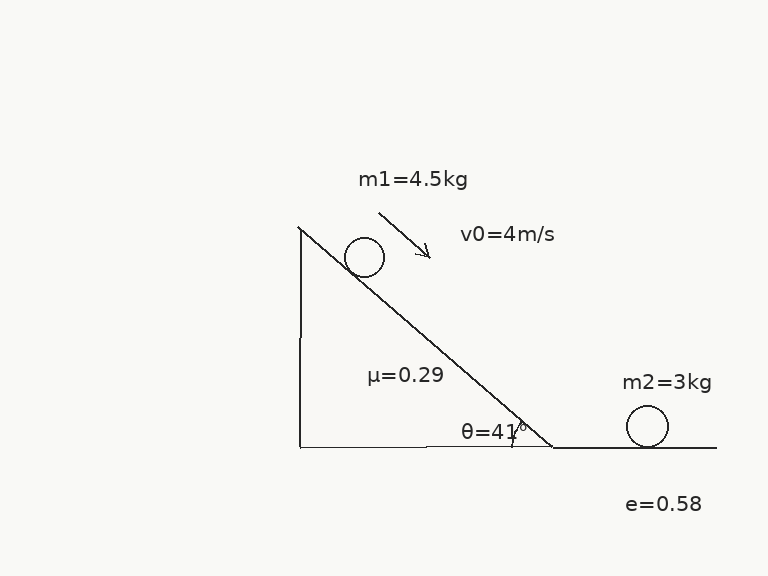ball: (624, 403, 670, 449), (342, 235, 386, 279)
ramp: (297, 225, 554, 449)
